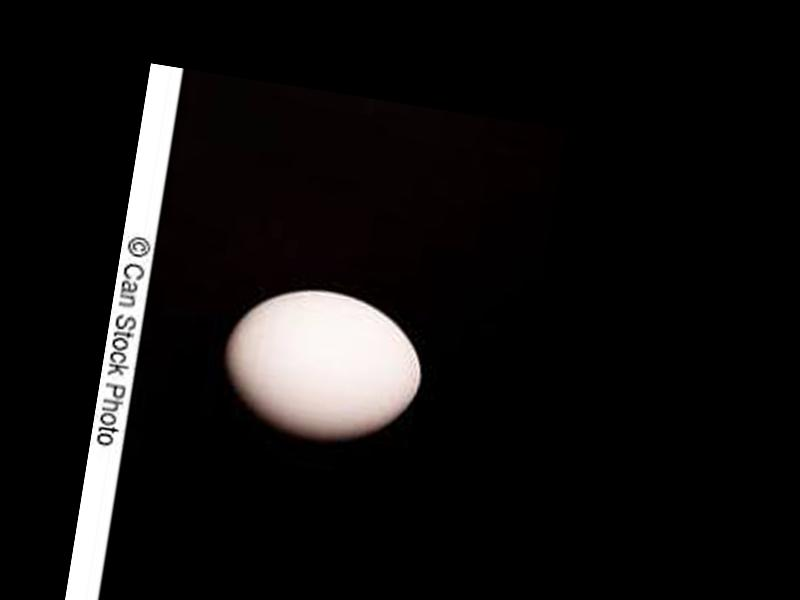Eggs: (211, 276, 431, 452)
